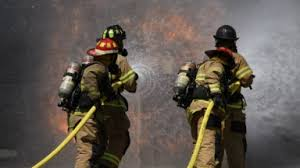emergent: (76, 42, 115, 168), (194, 52, 230, 168)
